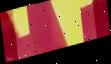scratch: (12, 0, 97, 61)
